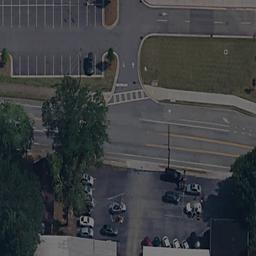Car: (80, 172, 98, 237), (141, 233, 204, 249), (159, 164, 181, 182), (182, 200, 203, 215), (162, 190, 181, 202), (109, 199, 129, 210), (185, 181, 202, 193), (104, 223, 119, 236), (87, 55, 95, 75)
Crosswalk: (104, 90, 151, 104)
Double Solid Yellow Line: (153, 131, 256, 147), (143, 143, 237, 157)
Right Turn Arrow: (216, 114, 231, 124)
Solid White Line: (102, 151, 233, 168), (141, 118, 232, 132), (177, 117, 230, 125), (1, 99, 43, 108), (30, 129, 60, 130)
Stop Line: (115, 84, 129, 88)
